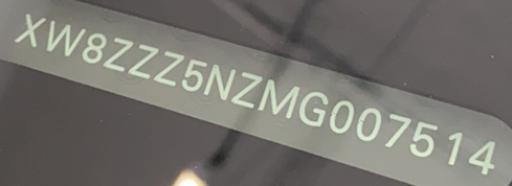letter: (258, 77, 300, 117), (48, 17, 86, 56), (202, 63, 236, 101), (230, 71, 264, 109), (14, 11, 46, 50), (102, 34, 134, 73), (153, 48, 185, 86), (408, 119, 440, 156), (297, 89, 329, 125), (128, 42, 158, 79), (354, 106, 384, 141), (384, 110, 412, 147), (468, 138, 496, 175), (180, 56, 208, 90), (80, 31, 108, 64), (328, 98, 354, 133), (446, 128, 462, 165)
